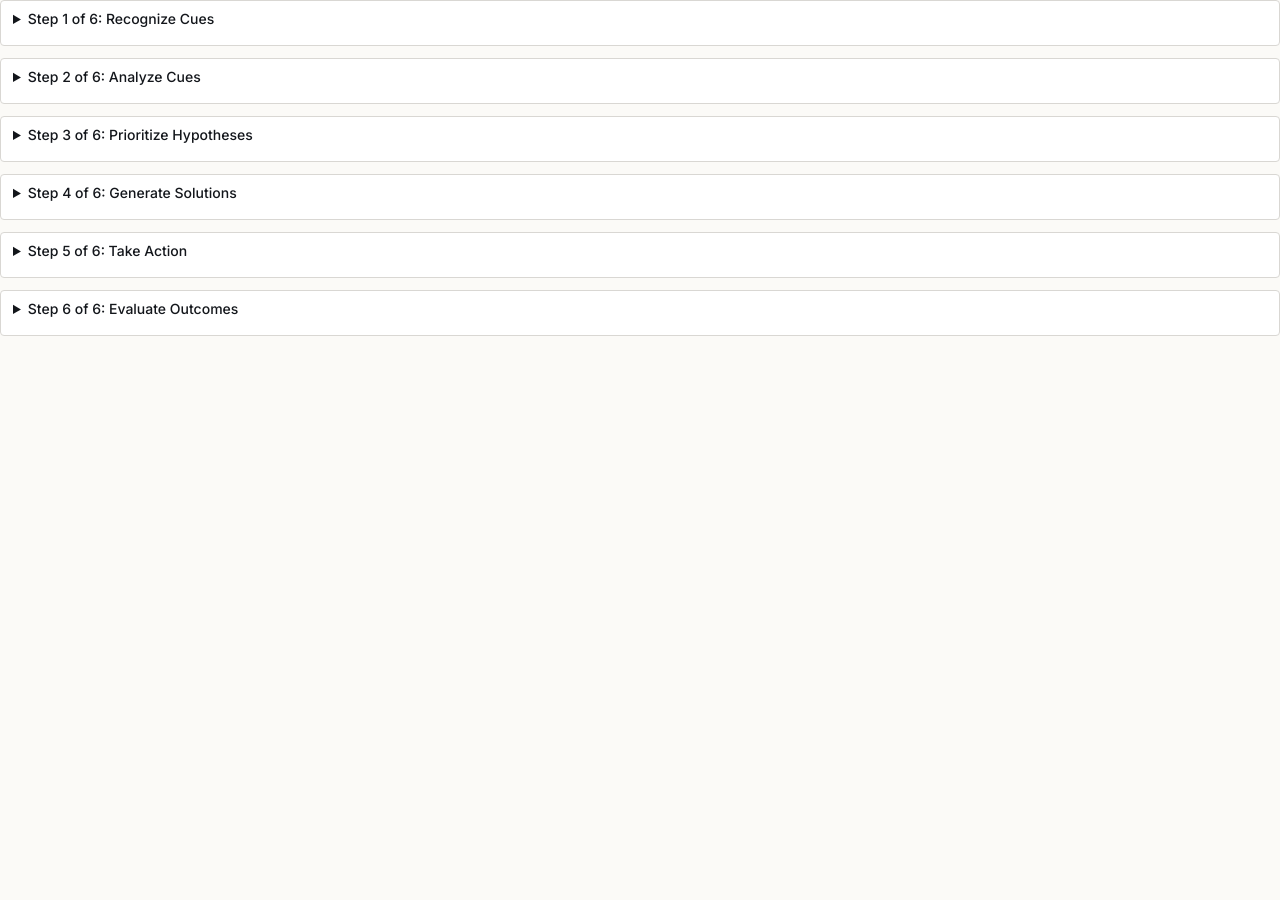
AiImportEntryPreview (#346) › shows a case study step by step, each step with its chart and its key
The width and height of the screenshot is (1280, 900).
Expected: the heading "Step 2 of 6: Analyze Cues" is shown, [28,68,201,85]
Click the heading "Step 1 of 6: Recognize Cues". click: x=121, y=18
box: [28,10,214,27]
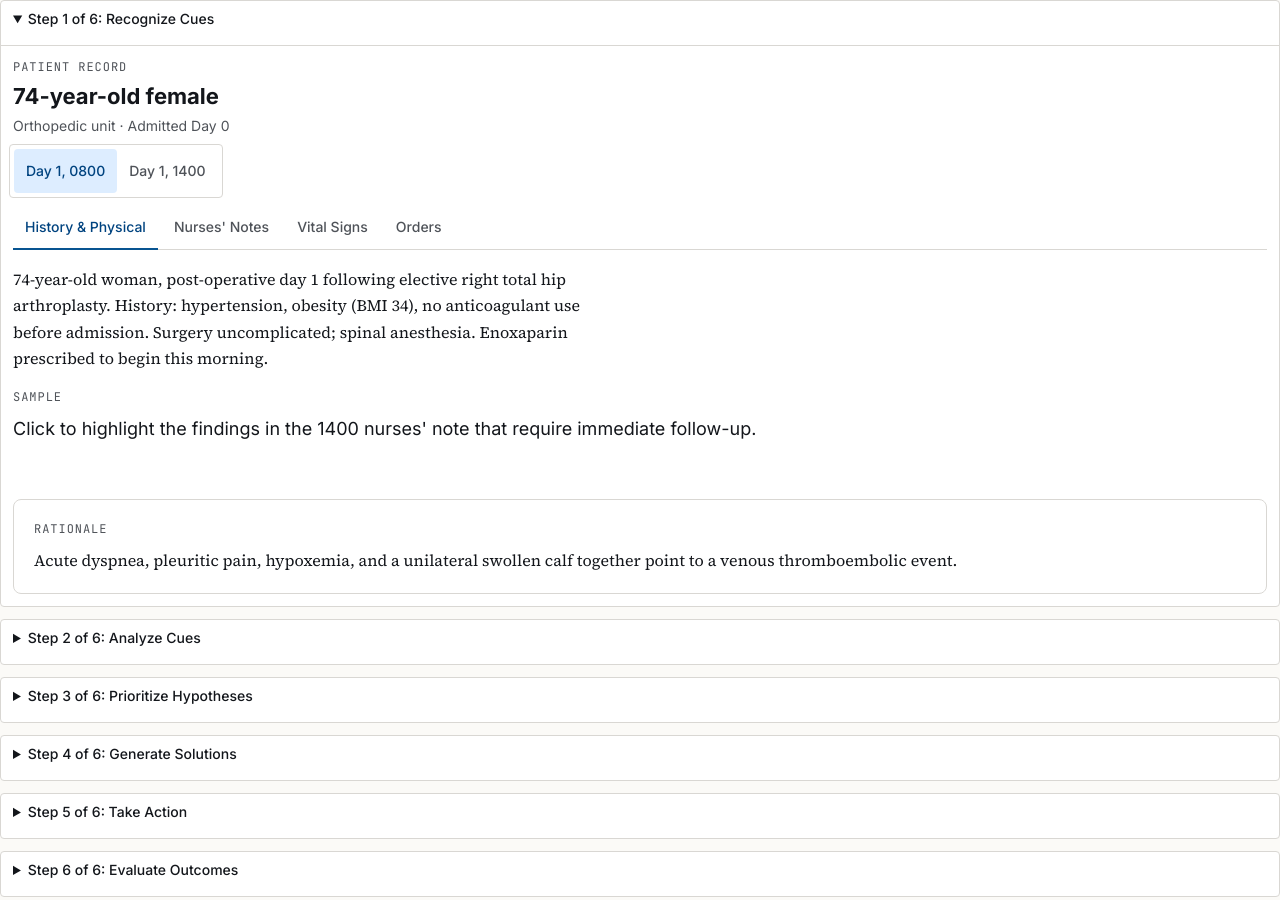
Expected: the element "Rationale" is shown, [13,499,1267,594]
